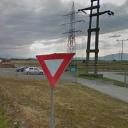preferencia: (34, 50, 78, 92)
